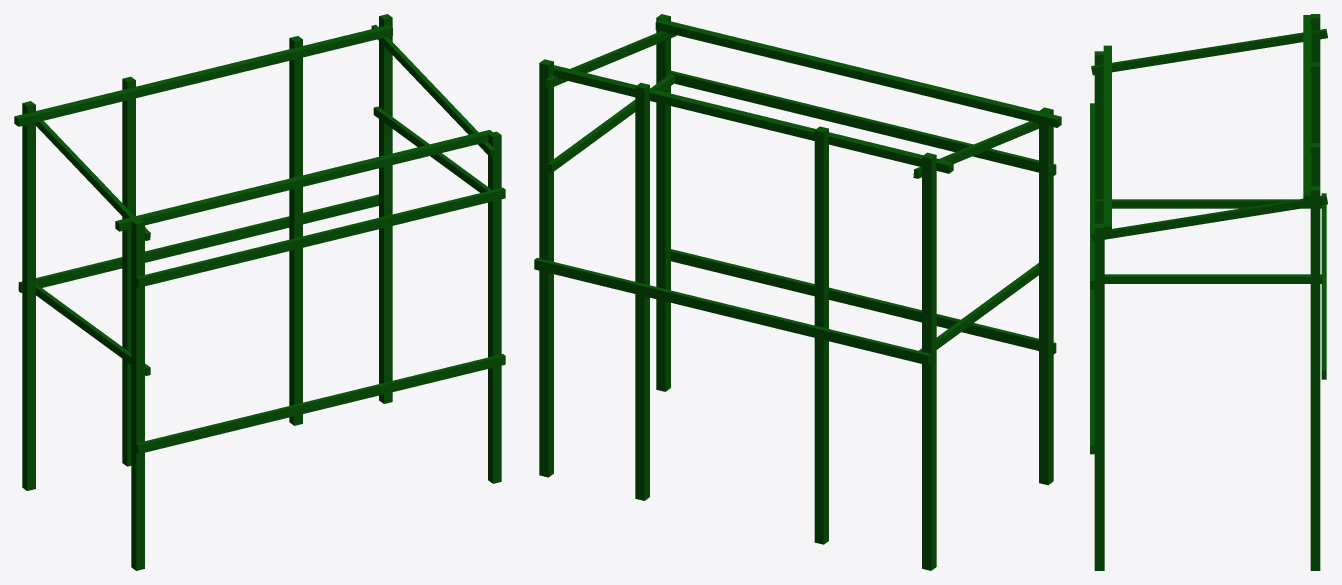
File: Structure01.FBX
3 views of the same model, side by side, from view 1: azimuth 30°, elevation 25°; view 2: azimuth 150°, elevation 25°; view 3: azimuth 270°, elevation 25° (orthographic). The views are drawn at different scales.
Visible parts, largest first — view 1: SM_structure01_0; view 2: SM_structure01_0; view 3: SM_structure01_0.
Boxes of the visible parts, x1,y1,x2,y2 form: SM_structure01_0: [14, 14, 505, 570]; SM_structure01_0: [534, 14, 1061, 570]; SM_structure01_0: [1090, 14, 1327, 570].
Bounding box in the file's own units: 263 × 144 × 255.
